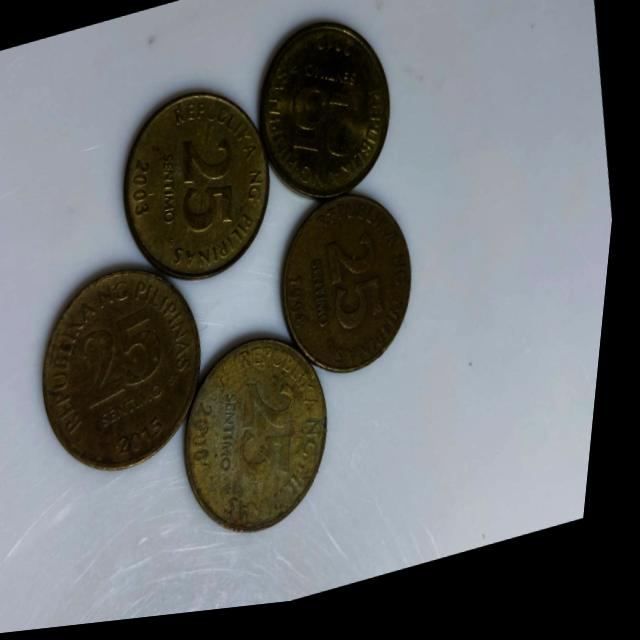25Cent_Old_Front: (75, 304, 187, 421), (236, 378, 319, 494), (174, 132, 251, 247), (324, 235, 398, 342), (289, 86, 368, 168)
